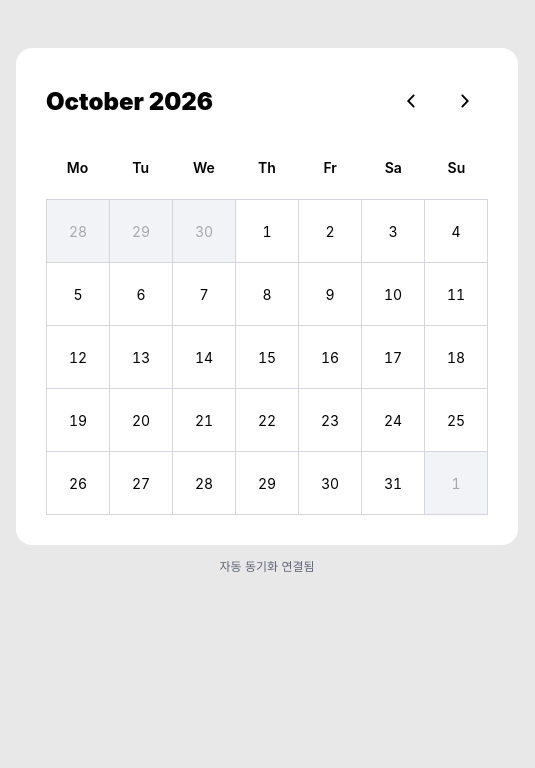
Test case: 이전 날짜의 늦은 응답이 새 날짜의 목록을 덮지 않는다
The width and height of the screenshot is (535, 768).
Click the button named "2026년 10월 7일 수요일" at (204, 294), box [173,263,235,325]
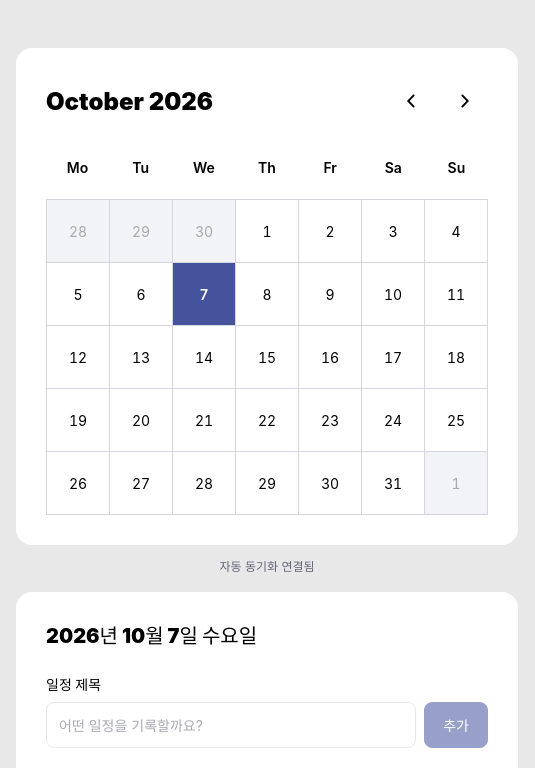
Click the button named "2026년 10월 8일 목요일" at (267, 294), box [236,263,298,325]
(page scrolled)
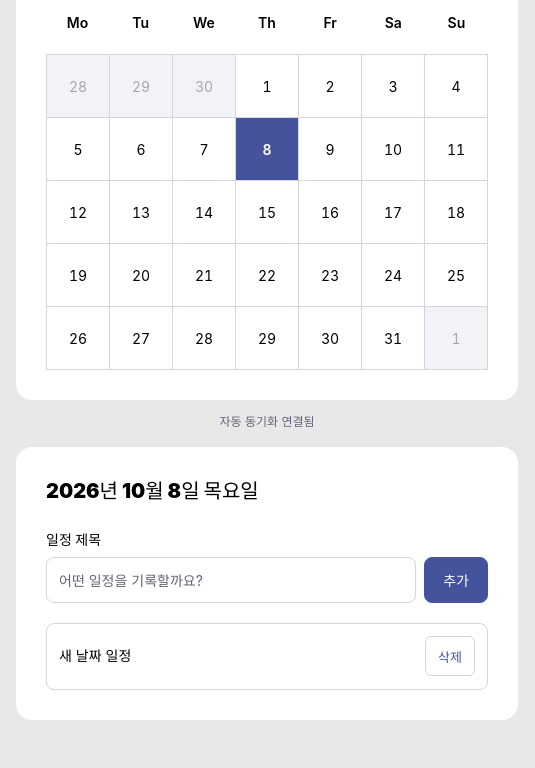
Check: the text "새 날짜 일정" is shown, box [59,647,131,664]
